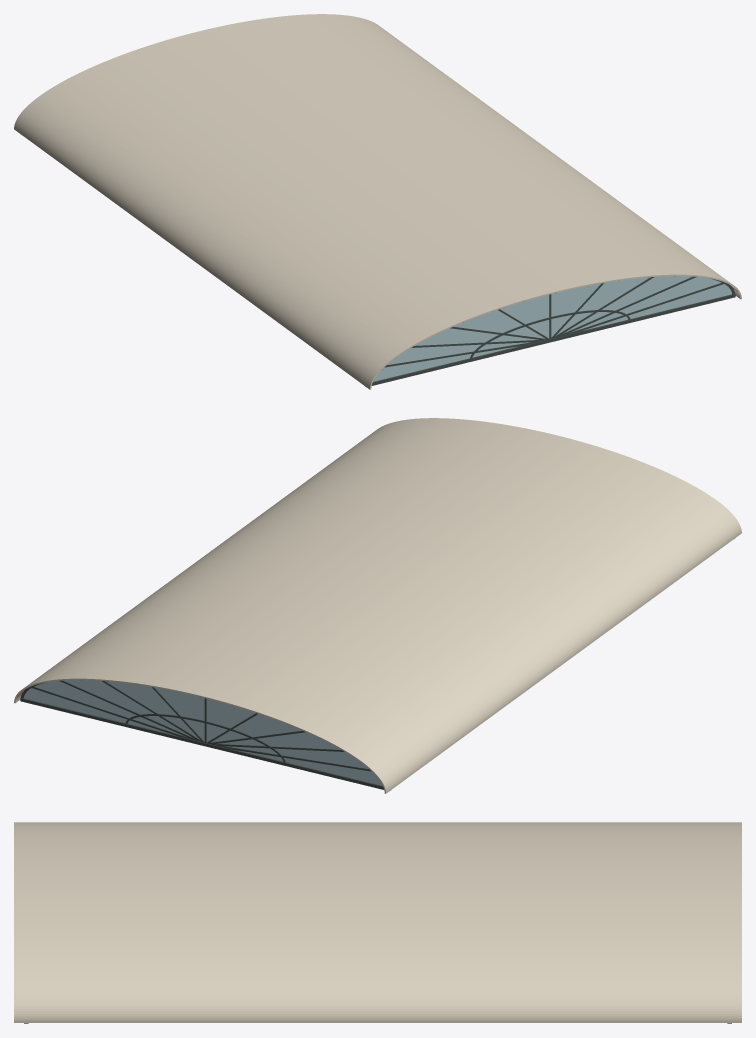
The model's file is HallVault.fbx.
3 renders of one model, top to bottom at view 1: azimuth 30°, elevation 25°; view 2: azimuth 150°, elevation 25°; view 3: azimuth 270°, elevation 25°, orthographic. The views are drawn at different scales.
Visible parts, largest first — view 1: HallVault; view 2: HallVault; view 3: HallVault.
Boxes of the visible parts, box(x1,y1,x2,y2) form: HallVault: box(14, 14, 741, 389); HallVault: box(14, 418, 741, 793); HallVault: box(14, 822, 741, 1023).
Bounding box in the file's own units: 1249 × 182 × 2070.
